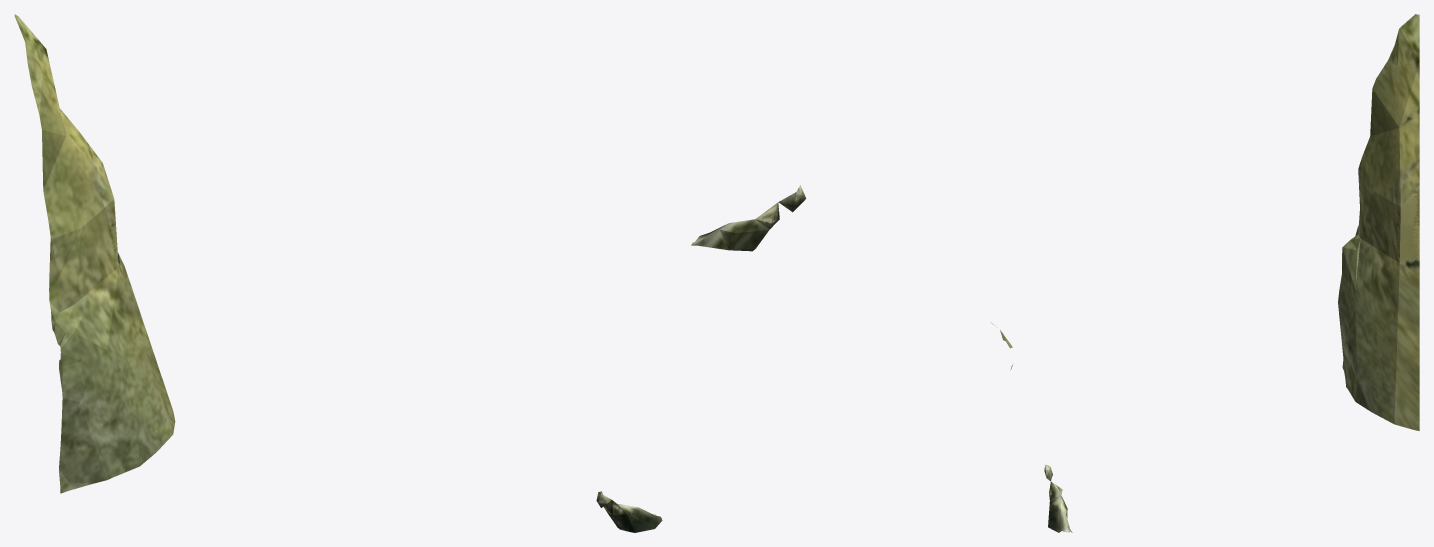
The picture shows the model from 3 angles, left to right: view 1: azimuth 30°, elevation 25°; view 2: azimuth 150°, elevation 25°; view 3: azimuth 270°, elevation 25°; orthographic projection. The views are drawn at different scales.
Size of the model in its own units: 5.9 by 5.9 by 5.67.
Materials: 1 (1 with a texture image).
